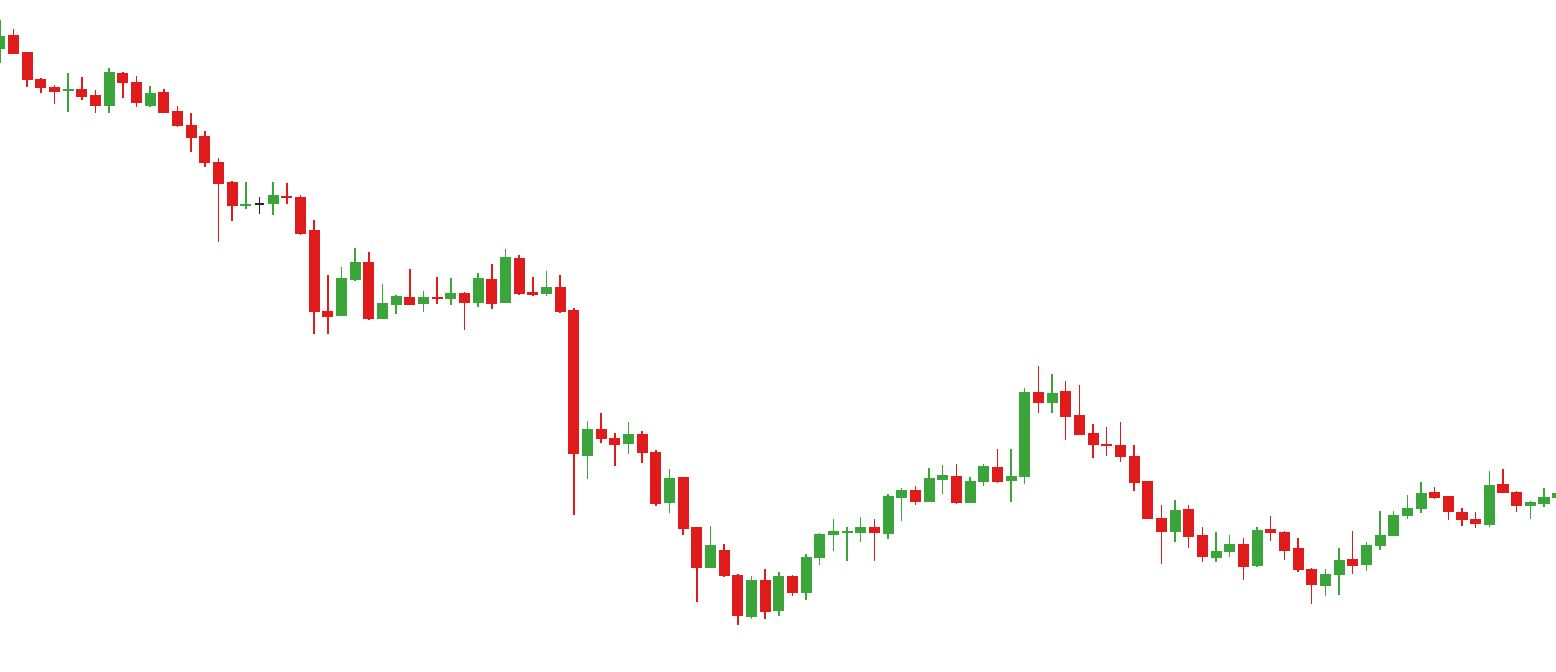buy: (1235, 544, 1332, 608)
